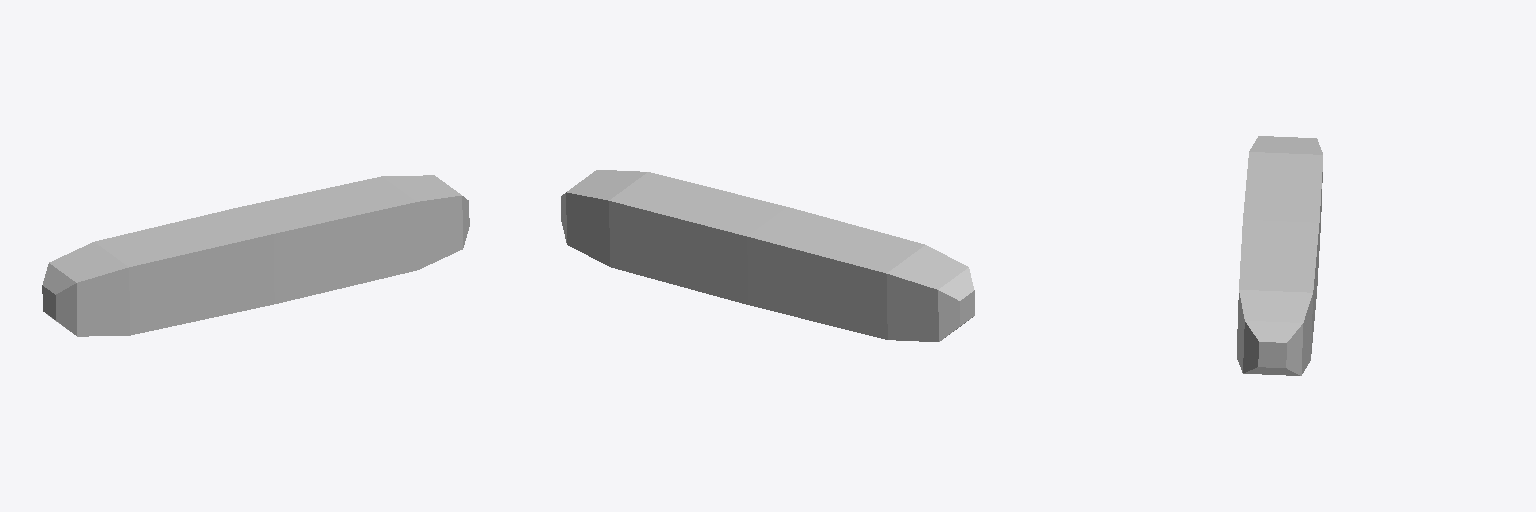
The model's file is RightShoulder.obj.
The picture shows the model from 3 angles: view 1: azimuth 30°, elevation 25°; view 2: azimuth 150°, elevation 25°; view 3: azimuth 270°, elevation 25°; orthographic projection.
Parts seen in each view (by area): view 1: ../rami/model/RightShoulder; view 2: ../rami/model/RightShoulder; view 3: ../rami/model/RightShoulder.
Part boxes in pixels (x1,y1,x2,y2): ../rami/model/RightShoulder: (42, 175, 469, 336); ../rami/model/RightShoulder: (561, 170, 974, 341); ../rami/model/RightShoulder: (1237, 136, 1322, 375).
Size of the model in its own units: 0.1031 by 0.0174 by 0.0191.